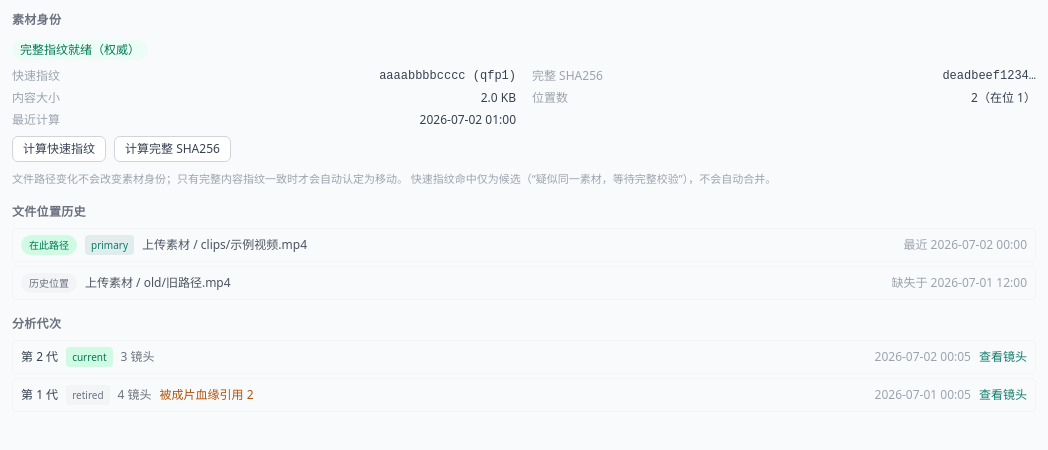
Test case: AssetIdentityPanel › 展开代次显示历史镜头(含历史标记)
The image size is (1048, 450).
Click the button with test id "gen-toggle-1" at x=1003, y=395, box [979,387,1027,403]
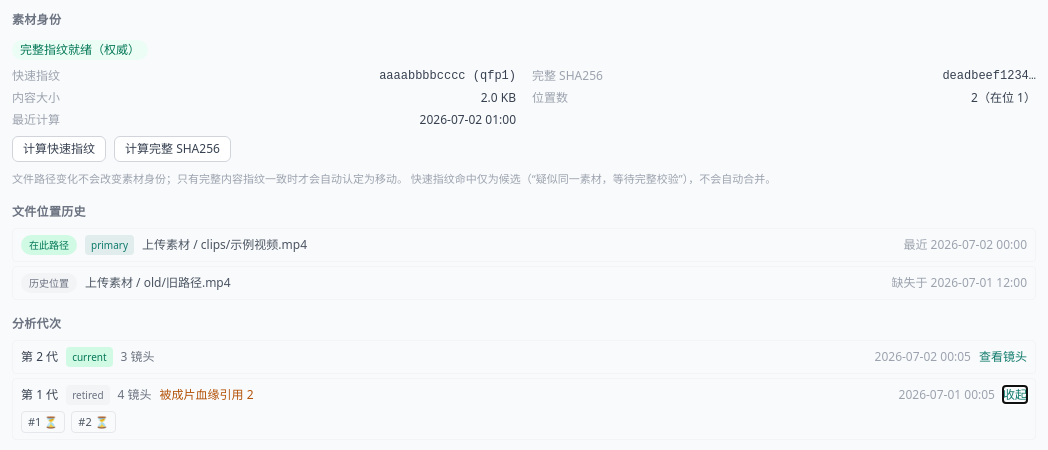
Expected: the button with test id "gen-shot-31" is shown, [21,411,65,433]
